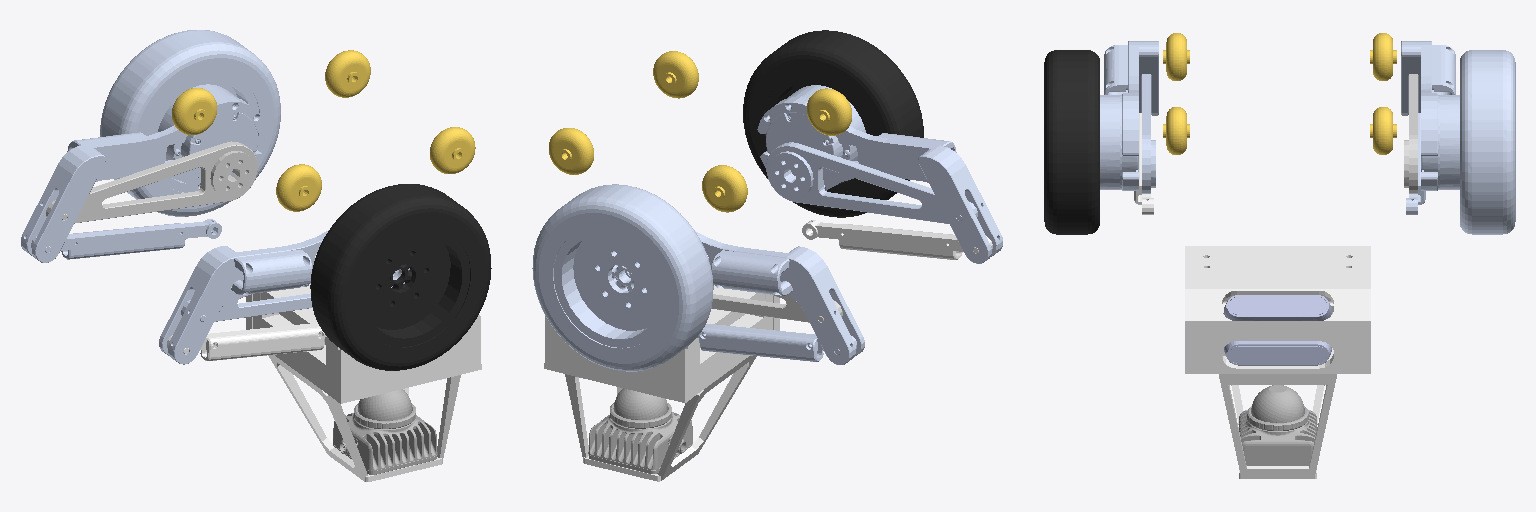
robot.urdf — 2WL_V3_Assem_v3:
<?xml version="1.0" encoding="utf-8"?>
<!-- This URDF was automatically created by SolidWorks to URDF Exporter! Originally created by Stephen Brawner (brawner@gmail.com) 
     Commit Version: 1.6.0-4-g7f85cfe  Build Version: 1.6.7995.38578
     For more information, please see http://wiki.ros.org/sw_urdf_exporter -->
<robot
  name="2WL_V3_Assem_v3">
  <link
    name="base_link">
    <inertial>
      <origin
        xyz="-0.0195047972877255 -0.00114127400058525 -0.0369375923521345"
        rpy="0 0 0" />
      <mass
        value="2.78445897269887" />
      <inertia
        ixx="0.00568152962783648"
        ixy="2.08273037995849E-05"
        ixz="-0.00016719134627533"
        iyy="0.0101430658802046"
        iyz="-9.10064267154278E-07"
        izz="0.0118545244442325" />
    </inertial>
    <visual>
      <origin
        xyz="0 0 0"
        rpy="0 0 0" />
      <geometry>
        <mesh
          filename="package://autonomy_light/resources/urdf/f4/meshes/base_link.STL" />
      </geometry>
      <material
        name="">
        <color
          rgba="0.250980392156863 0.250980392156863 0.250980392156863 1" />
      </material>
    </visual>
    <collision>
      <origin
        xyz="0 0 0"
        rpy="0 0 0" />
      <geometry>
        <mesh
          filename="package://autonomy_light/resources/urdf/f4/meshes/base_link.STL" />
      </geometry>
    </collision>
  </link>
  <link
    name="left_upper_link">
    <inertial>
      <origin
        xyz="0.0874690292875401 -0.0104411245932605 0.00142719424785788"
        rpy="0 0 0" />
      <mass
        value="0.0577772091639369" />
      <inertia
        ixx="3.64521244339026E-06"
        ixy="1.47443769607531E-05"
        ixz="-2.19916289236511E-07"
        iyy="0.00010869984328475"
        iyz="1.60570779108621E-07"
        izz="0.000110842213116557" />
    </inertial>
    <visual>
      <origin
        xyz="0 0 0"
        rpy="0 0 0" />
      <geometry>
        <mesh
          filename="package://autonomy_light/resources/urdf/f4/meshes/left_upper_link.STL" />
      </geometry>
      <material
        name="">
        <color
          rgba="1 1 1 1" />
      </material>
    </visual>
    <collision>
      <origin
        xyz="0 0 0"
        rpy="0 0 0" />
      <geometry>
        <mesh
          filename="package://autonomy_light/resources/urdf/f4/meshes/left_upper_link.STL" />
      </geometry>
    </collision>
  </link>
  <joint
    name="left_upper_joint"
    type="revolute">
    <origin
      xyz="-0.060601 0.1099 0.0091638"
      rpy="1.5708 0 3.1416" />
    <parent
      link="base_link" />
    <child
      link="left_upper_link" />
    <axis
      xyz="0 0 1" />
    <limit
      lower="-3.14"
      upper="3.14"
      effort="36"
      velocity="53" />
  </joint>
  <link
    name="right_upper_link">
    <inertial>
      <origin
        xyz="-0.0874690152895084 -0.0104411213597965 0.00143227230938398"
        rpy="0 0 0" />
      <mass
        value="0.057777209201571" />
      <inertia
        ixx="3.64521196878487E-06"
        ixy="-1.47443719199555E-05"
        ixz="2.19916693382766E-07"
        iyy="0.000108699843782186"
        iyz="1.60570795115929E-07"
        izz="0.000110842213138297" />
    </inertial>
    <visual>
      <origin
        xyz="0 0 0"
        rpy="0 0 0" />
      <geometry>
        <mesh
          filename="package://autonomy_light/resources/urdf/f4/meshes/right_upper_link.STL" />
      </geometry>
      <material
        name="">
        <color
          rgba="0.866666666666667 0.909803921568627 1 1" />
      </material>
    </visual>
    <collision>
      <origin
        xyz="0 0 0"
        rpy="0 0 0" />
      <geometry>
        <mesh
          filename="package://autonomy_light/resources/urdf/f4/meshes/right_upper_link.STL" />
      </geometry>
    </collision>
  </link>
  <joint
    name="right_upper_joint"
    type="revolute">
    <origin
      xyz="-0.060601 -0.1099 0.0091638"
      rpy="1.5708 0 0" />
    <parent
      link="base_link" />
    <child
      link="right_upper_link" />
    <axis
      xyz="0 0 -1" />
    <limit
      lower="-3.14"
      upper="3.14"
      effort="36"
      velocity="53" />
  </joint>
  <link
    name="left_shoulder_link">
    <inertial>
      <origin
        xyz="0.05973564162884 -0.000169756584677082 0.00751119496943135"
        rpy="0 0 0" />
      <mass
        value="0.120771696789504" />
      <inertia
        ixx="1.92659317592962E-05"
        ixy="1.02981305680237E-06"
        ixz="-3.98847080348154E-06"
        iyy="0.000373972678532597"
        iyz="1.13117420615334E-08"
        izz="0.000390796235917043" />
    </inertial>
    <visual>
      <origin
        xyz="0 0 0"
        rpy="0 0 0" />
      <geometry>
        <mesh
          filename="package://autonomy_light/resources/urdf/f4/meshes/left_shoulder_link.STL" />
      </geometry>
      <material
        name="">
        <color
          rgba="0.866666666666667 0.909803921568627 1 1" />
      </material>
    </visual>
    <collision>
      <origin
        xyz="0 0 0"
        rpy="0 0 0" />
      <geometry>
        <mesh
          filename="package://autonomy_light/resources/urdf/f4/meshes/left_shoulder_link.STL" />
      </geometry>
    </collision>
  </link>
  <joint
    name="left_shoulder_joint"
    type="revolute">
    <origin
      xyz="-0.0435 0.102 -0.037821"
      rpy="1.5708 0 3.1416" />
    <parent
      link="base_link" />
    <child
      link="left_shoulder_link" />
    <axis
      xyz="0 0 1" />
    <limit
      lower="-0.7610"
      upper="0"
      effort="36"
      velocity="53" />
  </joint>
  <link
    name="left_leg_link">
    <inertial>
      <origin
        xyz="-0.0693084137305347 -0.017642784546594 0.00904020062331872"
        rpy="0 0 0" />
      <mass
        value="0.267461827781674" />
      <inertia
        ixx="0.000149991864042205"
        ixy="-9.45257657469054E-05"
        ixz="5.89796301695987E-05"
        iyy="0.00102470243009107"
        iyz="4.39967814374385E-06"
        izz="0.0011479057686297" />
    </inertial>
    <visual>
      <origin
        xyz="0 0 0"
        rpy="0 0 0" />
      <geometry>
        <mesh
          filename="package://autonomy_light/resources/urdf/f4/meshes/left_leg_link.STL" />
      </geometry>
      <material
        name="">
        <color
          rgba="0.866666666666667 0.909803921568627 1 1" />
      </material>
    </visual>
    <collision>
      <origin
        xyz="0 0 0"
        rpy="0 0 0" />
      <geometry>
        <mesh
          filename="package://autonomy_light/resources/urdf/f4/meshes/left_leg_link.STL" />
      </geometry>
    </collision>
  </link>
  <joint
    name="left_leg_joint"
    type="revolute">
    <origin
      xyz="0.16 -0.00046086 0.00795"
      rpy="0 0 0" />
    <parent
      link="left_shoulder_link" />
    <child
      link="left_leg_link" />
    <axis
      xyz="0 0 1" />
    <limit
      lower="-3.14"
      upper="3.14"
      effort="36"
      velocity="53" />
  </joint>
  <link
    name="left_wheel_link">
    <inertial>
      <origin
        xyz="8.91431026217582E-16 6.59194920871187E-17 0.00851566442519004"
        rpy="0 0 0" />
      <mass
        value="0.600140982541541" />
      <inertia
        ixx="0.0011149354481547"
        ixy="2.11892766754215E-20"
        ixz="1.03237588329996E-18"
        iyy="0.0011149354481547"
        iyz="-4.48313359746433E-19"
        izz="0.00206011518509781" />
    </inertial>
    <visual>
      <origin
        xyz="0 0 0"
        rpy="0 0 0" />
      <geometry>
        <mesh
          filename="package://autonomy_light/resources/urdf/f4/meshes/left_wheel_link.STL" />
      </geometry>
      <material
        name="">
        <color
          rgba="0.223529411764706 0.223529411764706 0.223529411764706 1" />
      </material>
    </visual>
    <collision>
      <origin
        xyz="0 0 0"
        rpy="0 0 0" />
      <geometry>
        <mesh
          filename="package://autonomy_light/resources/urdf/f4/meshes/left_wheel_link.STL" />
      </geometry>
    </collision>
  </link>
  <joint
    name="left_wheel_joint"
    type="continuous">
    <origin
      xyz="-0.15892 -0.018539 0.052025"
      rpy="0 0 0" />
    <parent
      link="left_leg_link" />
    <child
      link="left_wheel_link" />
    <axis
      xyz="0 0 1" />
    <limit
      effort="17"
      velocity="40" />
  </joint>
  <link
    name="right_shoulder_link">
    <inertial>
      <origin
        xyz="-0.0597356283497604 -0.00017436675863099 0.00751362431455366"
        rpy="0 0 0" />
      <mass
        value="0.120771696789505" />
      <inertia
        ixx="1.92658393877806E-05"
        ixy="-1.01358906305115E-06"
        ixz="3.98846978618152E-06"
        iyy="0.000373972770904114"
        iyz="1.16649239484655E-08"
        izz="0.000390796235917044" />
    </inertial>
    <visual>
      <origin
        xyz="0 0 0"
        rpy="0 0 0" />
      <geometry>
        <mesh
          filename="package://autonomy_light/resources/urdf/f4/meshes/right_shoulder_link.STL" />
      </geometry>
      <material
        name="">
        <color
          rgba="0.894117647058823 0.894117647058823 0.894117647058823 1" />
      </material>
    </visual>
    <collision>
      <origin
        xyz="0 0 0"
        rpy="0 0 0" />
      <geometry>
        <mesh
          filename="package://autonomy_light/resources/urdf/f4/meshes/right_shoulder_link.STL" />
      </geometry>
    </collision>
  </link>
  <joint
    name="right_shoulder_joint"
    type="revolute">
    <origin
      xyz="-0.0435 -0.102 -0.037821"
      rpy="1.5708 0 0" />
    <parent
      link="base_link" />
    <child
      link="right_shoulder_link" />
    <axis
      xyz="0 0 -1" />
    <limit
      lower="-0.7610"
      upper="0"
      effort="36"
      velocity="53" />
  </joint>
  <link
    name="right_leg_link">
    <inertial>
      <origin
        xyz="0.0693599817171648 -0.0175108766213583 0.0089901997101457"
        rpy="0 0 0" />
      <mass
        value="0.267461792062622" />
      <inertia
        ixx="0.000149955618261177"
        ixy="9.44862369660646E-05"
        ixz="-5.89853813838262E-05"
        iyy="0.00102473823544115"
        iyz="4.38472541132712E-06"
        izz="0.00114790531824343" />
    </inertial>
    <visual>
      <origin
        xyz="0 0 0"
        rpy="0 0 0" />
      <geometry>
        <mesh
          filename="package://autonomy_light/resources/urdf/f4/meshes/right_leg_link.STL" />
      </geometry>
      <material
        name="">
        <color
          rgba="0.866666666666667 0.909803921568627 1 1" />
      </material>
    </visual>
    <collision>
      <origin
        xyz="0 0 0"
        rpy="0 0 0" />
      <geometry>
        <mesh
          filename="package://autonomy_light/resources/urdf/f4/meshes/right_leg_link.STL" />
      </geometry>
    </collision>
  </link>
  <joint
    name="right_leg_joint"
    type="revolute">
    <origin
      xyz="-0.16 -0.00046086 0.00805"
      rpy="0 0 0" />
    <parent
      link="right_shoulder_link" />
    <child
      link="right_leg_link" />
    <axis
      xyz="0 0 -1" />
    <limit
      lower="-3.14"
      upper="3.14"
      effort="36"
      velocity="53" />
  </joint>
  <link
    name="right_wheel_link">
    <inertial>
      <origin
        xyz="-1.97953632652403E-15 -3.33066907387547E-15 0.00851566442519008"
        rpy="0 0 0" />
      <mass
        value="0.600140982541541" />
      <inertia
        ixx="0.0011149354481547"
        ixy="4.08485462369603E-19"
        ixz="-1.47387066706439E-20"
        iyy="0.0011149354481547"
        iyz="-7.39986267535864E-20"
        izz="0.00206011518509781" />
    </inertial>
    <visual>
      <origin
        xyz="0 0 0"
        rpy="0 0 0" />
      <geometry>
        <mesh
          filename="package://autonomy_light/resources/urdf/f4/meshes/right_wheel_link.STL" />
      </geometry>
      <material
        name="">
        <color
          rgba="0.866666666666667 0.909803921568627 1 1" />
      </material>
    </visual>
    <collision>
      <origin
        xyz="0 0 0"
        rpy="0 0 0" />
      <geometry>
        <mesh
          filename="package://autonomy_light/resources/urdf/f4/meshes/right_wheel_link.STL" />
      </geometry>
    </collision>
  </link>
  <joint
    name="right_wheel_joint"
    type="continuous">
    <origin
      xyz="0.15892 -0.018539 0.051975"
      rpy="0 0 0" />
    <parent
      link="right_leg_link" />
    <child
      link="right_wheel_link" />
    <axis
      xyz="0 0 -1" />
    <limit
      effort="17"
      velocity="40" />
  </joint>
  <link
    name="FL_caster_link">
    <inertial>
      <origin
        xyz="1.38777878078145E-17 0 3.46944695195361E-18"
        rpy="0 0 0" />
      <mass
        value="0.0180725138436387" />
      <inertia
        ixx="1.99574069487808E-06"
        ixy="-1.19145061744001E-37"
        ixz="8.58666667062268E-23"
        iyy="1.99574069487808E-06"
        iyz="-5.03760805333475E-23"
        izz="3.21359672961516E-06" />
    </inertial>
    <visual>
      <origin
        xyz="0 0 0"
        rpy="0 0 0" />
      <geometry>
        <mesh
          filename="package://autonomy_light/resources/urdf/f4/meshes/FL_caster_link.STL" />
      </geometry>
      <material
        name="">
        <color
          rgba="1 0.870588235294118 0.403921568627451 1" />
      </material>
    </visual>
    <collision>
      <origin
        xyz="0 0 0"
        rpy="0 0 0" />
      <geometry>
        <mesh
          filename="package://autonomy_light/resources/urdf/f4/meshes/FL_caster_link.STL" />
      </geometry>
    </collision>
  </link>
  <joint
    name="FL_caster_joint"
    type="fixed">
    <origin
      xyz="0.0535 0.085 -0.11282"
      rpy="1.5708 0 3.1416" />
    <parent
      link="base_link" />
    <child
      link="FL_caster_link" />
    <axis
      xyz="0 0 1" />
    <limit
      effort="100"
      velocity="100" />
  </joint>
  <link
    name="FR_caster_link">
    <inertial>
      <origin
        xyz="-1.38777878078145E-17 0 -2.77555756156289E-17"
        rpy="0 0 0" />
      <mass
        value="0.0180725138436387" />
      <inertia
        ixx="1.99574069487808E-06"
        ixy="1.41059322098675E-37"
        ixz="8.64732658220991E-23"
        iyy="1.99574069487808E-06"
        iyz="5.03760805333475E-23"
        izz="3.21359672961516E-06" />
    </inertial>
    <visual>
      <origin
        xyz="0 0 0"
        rpy="0 0 0" />
      <geometry>
        <mesh
          filename="package://autonomy_light/resources/urdf/f4/meshes/FR_caster_link.STL" />
      </geometry>
      <material
        name="">
        <color
          rgba="1 0.870588235294118 0.403921568627451 1" />
      </material>
    </visual>
    <collision>
      <origin
        xyz="0 0 0"
        rpy="0 0 0" />
      <geometry>
        <mesh
          filename="package://autonomy_light/resources/urdf/f4/meshes/FR_caster_link.STL" />
      </geometry>
    </collision>
  </link>
  <joint
    name="FR_caster_joint"
    type="fixed">
    <origin
      xyz="0.0535 -0.085 -0.11282"
      rpy="1.5708 0 0" />
    <parent
      link="base_link" />
    <child
      link="FR_caster_link" />
    <axis
      xyz="0 0 -1" />
    <limit
      effort="100"
      velocity="100" />
  </joint>
  <link
    name="RL_caster_link">
    <inertial>
      <origin
        xyz="0 1.38777878078145E-17 1.73472347597681E-18"
        rpy="0 0 0" />
      <mass
        value="0.0180725138436387" />
      <inertia
        ixx="1.99574069487808E-06"
        ixy="-1.68893582634215E-37"
        ixz="4.05069368896245E-23"
        iyy="1.99574069487808E-06"
        iyz="-5.19765754161798E-23"
        izz="3.21359672961516E-06" />
    </inertial>
    <visual>
      <origin
        xyz="0 0 0"
        rpy="0 0 0" />
      <geometry>
        <mesh
          filename="package://autonomy_light/resources/urdf/f4/meshes/RL_caster_link.STL" />
      </geometry>
      <material
        name="">
        <color
          rgba="1 0.870588235294118 0.403921568627451 1" />
      </material>
    </visual>
    <collision>
      <origin
        xyz="0 0 0"
        rpy="0 0 0" />
      <geometry>
        <mesh
          filename="package://autonomy_light/resources/urdf/f4/meshes/RL_caster_link.STL" />
      </geometry>
    </collision>
  </link>
  <joint
    name="RL_caster_joint"
    type="fixed">
    <origin
      xyz="-0.0905 0.085 -0.11282"
      rpy="1.5708 0 3.1416" />
    <parent
      link="base_link" />
    <child
      link="RL_caster_link" />
    <axis
      xyz="0 0 1" />
    <limit
      effort="100"
      velocity="100" />
  </joint>
  <link
    name="RR_caster_link">
    <inertial>
      <origin
        xyz="0 0 -2.77555756156289E-17"
        rpy="0 0 0" />
      <mass
        value="0.0180725138436387" />
      <inertia
        ixx="1.99574069487808E-06"
        ixy="-1.85847948551598E-37"
        ixz="6.16200112077169E-22"
        iyy="1.99574069487808E-06"
        iyz="-4.11135360054968E-23"
        izz="3.21359672961516E-06" />
    </inertial>
    <visual>
      <origin
        xyz="0 0 0"
        rpy="0 0 0" />
      <geometry>
        <mesh
          filename="package://autonomy_light/resources/urdf/f4/meshes/RR_caster_link.STL" />
      </geometry>
      <material
        name="">
        <color
          rgba="1 0.870588235294118 0.403921568627451 1" />
      </material>
    </visual>
    <collision>
      <origin
        xyz="0 0 0"
        rpy="0 0 0" />
      <geometry>
        <mesh
          filename="package://autonomy_light/resources/urdf/f4/meshes/RR_caster_link.STL" />
      </geometry>
    </collision>
  </link>
  <joint
    name="RR_caster_joint"
    type="fixed">
    <origin
      xyz="-0.0905 -0.085 -0.11282"
      rpy="1.5708 -1.5708 0" />
    <parent
      link="base_link" />
    <child
      link="RR_caster_link" />
    <axis
      xyz="0 0 -1" />
    <limit
      effort="100"
      velocity="100" />
  </joint>
  <link
    name="sensor_mount_link">
    <inertial>
      <origin
        xyz="-0.00808111425753408 0.0032755352978255 -0.0181941952126975"
        rpy="0 0 0" />
      <mass
        value="0.611294472871864" />
      <inertia
        ixx="0.00190990567252455"
        ixy="-1.62469232000704E-05"
        ixz="-0.000171504786976252"
        iyy="0.00139983892501809"
        iyz="-2.41094372686426E-05"
        izz="0.00241481264668523" />
    </inertial>
    <visual>
      <origin
        xyz="0 0 0"
        rpy="0 0 0" />
      <geometry>
        <mesh
          filename="package://autonomy_light/resources/urdf/f4/meshes/sensor_mount_link.STL" />
      </geometry>
      <material
        name="">
        <color
          rgba="1 1 1 1" />
      </material>
    </visual>
    <collision>
      <origin
        xyz="0 0 0"
        rpy="0 0 0" />
      <geometry>
        <mesh
          filename="package://autonomy_light/resources/urdf/f4/meshes/sensor_mount_link.STL" />
      </geometry>
    </collision>
  </link>
  <joint
    name="sensor_mount_joint"
    type="fixed">
    <origin
      xyz="0.021839 0.00099604 0.093686"
      rpy="0 0 0" />
    <parent
      link="base_link" />
    <child
      link="sensor_mount_link" />
    <axis
      xyz="0 0 0" />
  </joint>
  <link
    name="F_camera_link">
    <inertial>
      <origin
        xyz="-0.000479238809843033 2.78150064902671E-05 -0.0125654095950649"
        rpy="0 0 0" />
      <mass
        value="0.0457682375319545" />
      <inertia
        ixx="4.13726235739118E-06"
        ixy="-1.45862301266028E-09"
        ixz="-4.09602551553101E-07"
        iyy="2.7875502481937E-05"
        iyz="-7.45139426440473E-09"
        izz="2.75911608124787E-05" />
    </inertial>
    <visual>
      <origin
        xyz="0 0 0"
        rpy="0 0 0" />
      <geometry>
        <mesh
          filename="package://autonomy_light/resources/urdf/f4/meshes/F_camera_link.STL" />
      </geometry>
      <material
        name="">
        <color
          rgba="0.792156862745098 0.819607843137255 0.933333333333333 1" />
      </material>
    </visual>
    <collision>
      <origin
        xyz="0 0 0"
        rpy="0 0 0" />
      <geometry>
        <mesh
          filename="package://autonomy_light/resources/urdf/f4/meshes/F_camera_link.STL" />
      </geometry>
    </collision>
  </link>
  <joint
    name="F_camera_joint"
    type="fixed">
    <origin
      xyz="0.053264 0.0012578 -0.057725"
      rpy="-2.3562 0 -1.5708" />
    <parent
      link="sensor_mount_link" />
    <child
      link="F_camera_link" />
    <axis
      xyz="0 0 0" />
  </joint>
  <link
    name="A_camera_link">
    <inertial>
      <origin
        xyz="-0.000479240241576417 2.78199923506722E-05 -0.0125653980757386"
        rpy="0 0 0" />
      <mass
        value="0.0457681807749963" />
      <inertia
        ixx="4.13724811676117E-06"
        ixy="-1.459572069017E-09"
        ixz="-4.09602249856452E-07"
        iyy="2.78754963673029E-05"
        iyz="-7.44880970295598E-09"
        izz="2.75911514849689E-05" />
    </inertial>
    <visual>
      <origin
        xyz="0 0 0"
        rpy="0 0 0" />
      <geometry>
        <mesh
          filename="package://autonomy_light/resources/urdf/f4/meshes/A_camera_link.STL" />
      </geometry>
      <material
        name="">
        <color
          rgba="0.792156862745098 0.819607843137255 0.933333333333333 1" />
      </material>
    </visual>
    <collision>
      <origin
        xyz="0 0 0"
        rpy="0 0 0" />
      <geometry>
        <mesh
          filename="package://autonomy_light/resources/urdf/f4/meshes/A_camera_link.STL" />
      </geometry>
    </collision>
  </link>
  <joint
    name="A_camera_joint"
    type="fixed">
    <origin
      xyz="0.062914 0.0012578 -0.0175"
      rpy="-1.5708 0 -1.5708" />
    <parent
      link="sensor_mount_link" />
    <child
      link="A_camera_link" />
    <axis
      xyz="0 0 0" />
  </joint>
  <link
    name="lidar_link">
    <!-- lidar_link is the kinematic root owned dynamically by Super-LIO.
         Keep it massless so robot_state_publisher/KDL can publish the static
         lidar_link -> base_link tree without a root-inertia warning. -->
    <visual>
      <origin
        xyz="0 0 0"
        rpy="0 0 0" />
      <geometry>
        <mesh
          filename="package://autonomy_light/resources/urdf/f4/meshes/lidar_link.STL" />
      </geometry>
      <material
        name="">
        <color
          rgba="0.752941176470588 0.752941176470588 0.752941176470588 1" />
      </material>
    </visual>
    <collision>
      <origin
        xyz="0 0 0"
        rpy="0 0 0" />
      <geometry>
        <mesh
          filename="package://autonomy_light/resources/urdf/f4/meshes/lidar_link.STL" />
      </geometry>
    </collision>
  </link>
  <!-- Super-LIO dynamically publishes odom -> lidar_link.  Making lidar_link
       the URDF root prevents a competing static parent and gives the exact
       chain map -> odom -> lidar_link -> base_link. -->
  <joint name="lidar_to_base_joint" type="fixed">
    <origin xyz="-0.038335 0.00162081 0.138986" rpy="3.141592 0 0" />
    <parent link="lidar_link" />
    <child link="base_link" />
  </joint>
</robot>

--- What the picture shows (computed from the rendered views, not written in the file) ---
Views: 3 orthographic renders of the robot side by side, from view 1: azimuth 30°, elevation 25°; view 2: azimuth 150°, elevation 25°; view 3: azimuth 270°, elevation 25°.
Model 2WL_V3_Assem_v3 with 17 links and 16 joints (6 revolute, 2 continuous, 8 fixed), rooted at lidar_link, posed all joints at 0.
Links seen in each view (by area): view 1: left_wheel_link, right_wheel_link, right_leg_link, sensor_mount_link, left_leg_link, right_shoulder_link, lidar_link, right_upper_link, left_upper_link, RL_caster_link, FR_caster_link, FL_caster_link (+2 smaller); view 2: right_wheel_link, left_wheel_link, left_leg_link, sensor_mount_link, right_leg_link, left_shoulder_link, lidar_link, left_upper_link, right_upper_link, FL_caster_link, RR_caster_link, RL_caster_link (+2 smaller); view 3: sensor_mount_link, right_wheel_link, left_wheel_link, left_leg_link, right_leg_link, lidar_link, F_camera_link, A_camera_link, left_shoulder_link, right_shoulder_link, FL_caster_link, RL_caster_link (+4 smaller).
Link boxes in pixels (x1,y1,x2,y2): left_wheel_link: [310, 184, 491, 370]; right_wheel_link: [100, 30, 280, 216]; right_leg_link: [21, 84, 266, 262]; sensor_mount_link: [246, 284, 481, 481]; left_leg_link: [159, 230, 409, 364]; right_shoulder_link: [46, 141, 257, 223]; lidar_link: [333, 389, 437, 474]; right_upper_link: [31, 219, 221, 259]; left_upper_link: [167, 323, 326, 360]; RL_caster_link: [276, 164, 321, 211]; FR_caster_link: [325, 50, 370, 97]; FL_caster_link: [430, 127, 475, 173]; right_wheel_link: [532, 184, 713, 371]; left_wheel_link: [743, 30, 923, 217]; left_leg_link: [757, 85, 1002, 263]; sensor_mount_link: [544, 257, 779, 481]; right_leg_link: [615, 231, 864, 364]; left_shoulder_link: [766, 142, 977, 223]; lidar_link: [588, 388, 692, 473]; left_upper_link: [802, 220, 992, 259]; right_upper_link: [697, 324, 856, 361]; FL_caster_link: [653, 51, 698, 98]; RR_caster_link: [702, 165, 747, 212]; RL_caster_link: [807, 88, 851, 135]; sensor_mount_link: [1185, 246, 1370, 478]; right_wheel_link: [1460, 50, 1515, 234]; left_wheel_link: [1044, 50, 1099, 234]; left_leg_link: [1100, 41, 1158, 190]; right_leg_link: [1401, 41, 1459, 190]; lidar_link: [1239, 385, 1316, 465]; F_camera_link: [1223, 295, 1331, 320]; A_camera_link: [1224, 341, 1331, 365]; left_shoulder_link: [1142, 74, 1155, 193]; right_shoulder_link: [1404, 74, 1417, 193]; FL_caster_link: [1163, 107, 1189, 154]; RL_caster_link: [1163, 33, 1189, 80].
Size in the robot's own frame: 0.3158 by 0.388 by 0.3265 metres.
16 mesh visuals loaded from 17 distinct referenced files (16 binary STL); not drawn: 1 (reference not matched to a file when rendering).
